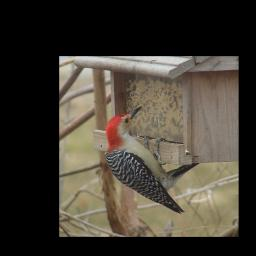Woodpecker: (101, 105, 194, 210)
